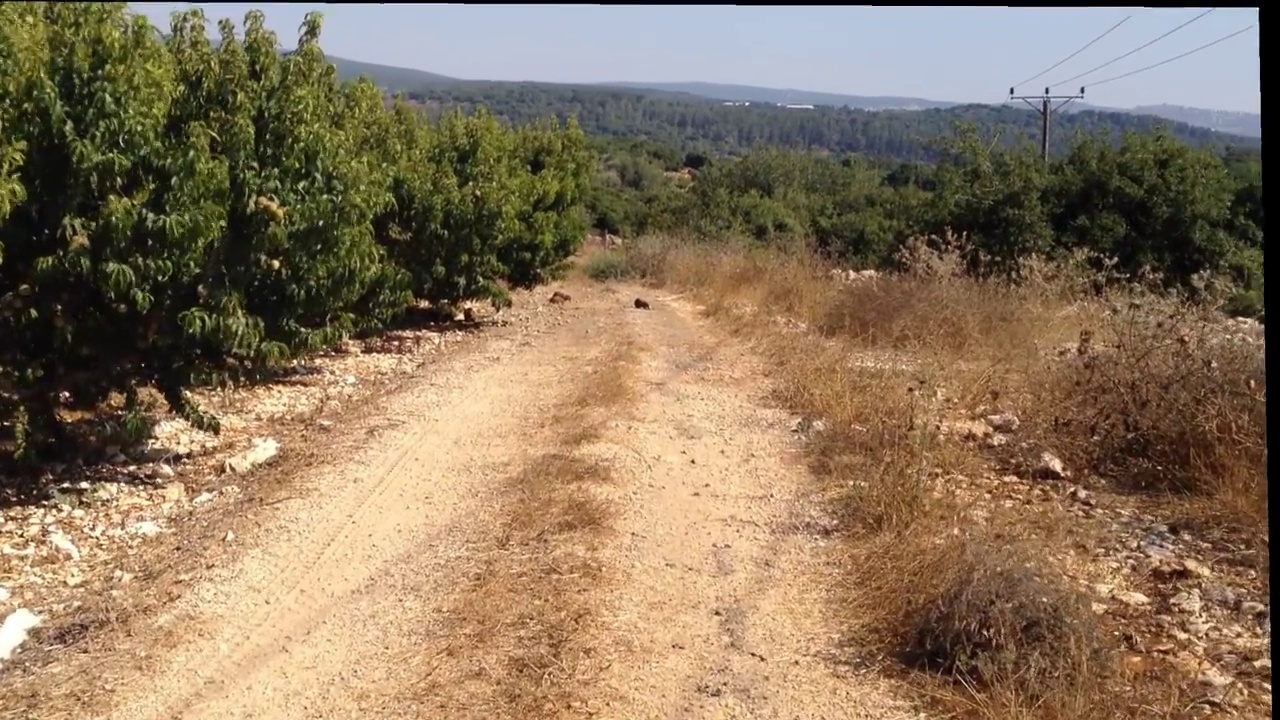Rock Hyrex: (632, 296, 653, 312), (547, 290, 571, 304)
